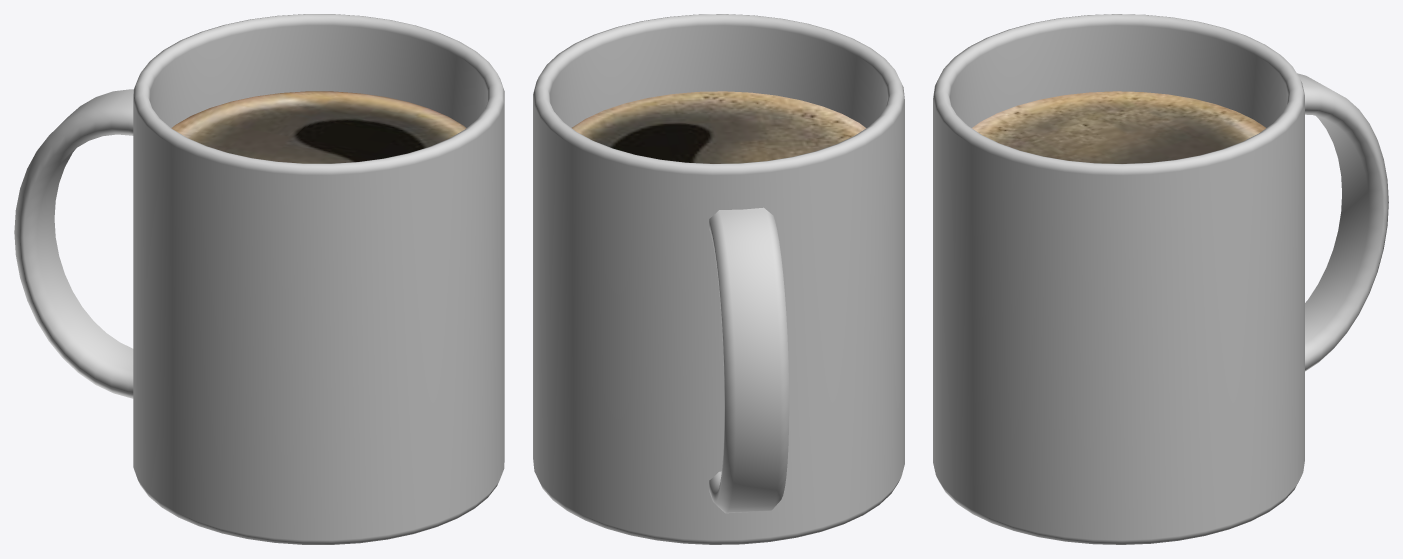
File: mug.glb
3 renders of one model, left to right at view 1: azimuth 30°, elevation 25°; view 2: azimuth 150°, elevation 25°; view 3: azimuth 270°, elevation 25°, orthographic.
Parts seen in each view (by area): view 1: Mug1; view 2: Mug1; view 3: Mug1.
Boxes of the visible parts, left/top/right/bottom form: Mug1: left=14, top=14, right=504, bottom=544; Mug1: left=533, top=14, right=904, bottom=544; Mug1: left=933, top=14, right=1388, bottom=544.
Size of the model in its own units: 2.78 by 2.93 by 3.17.
2 materials, 1 textured.
